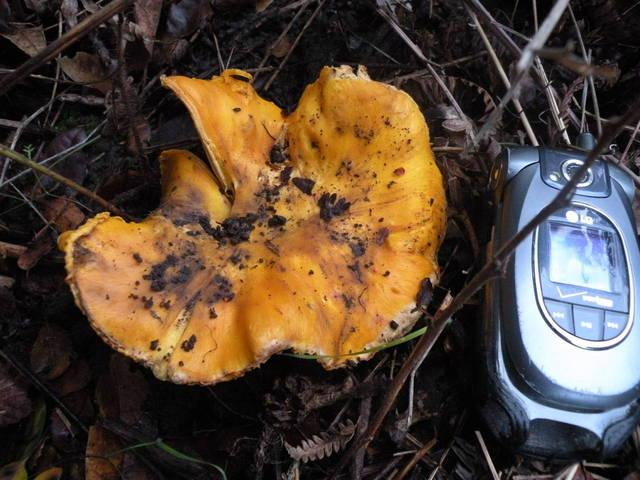edible_mushroom: (57, 62, 448, 386)
